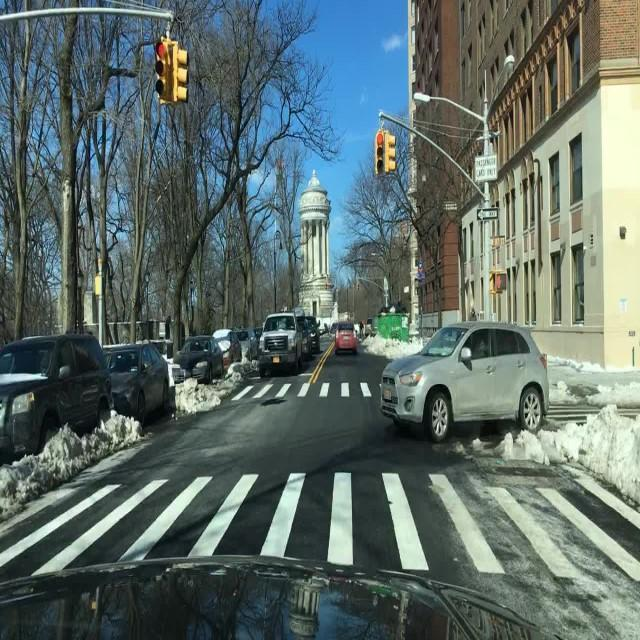normal: (377, 326, 547, 448), (0, 336, 108, 464), (100, 340, 175, 423), (258, 312, 317, 376), (174, 335, 227, 380), (211, 329, 243, 364), (335, 324, 361, 355)
